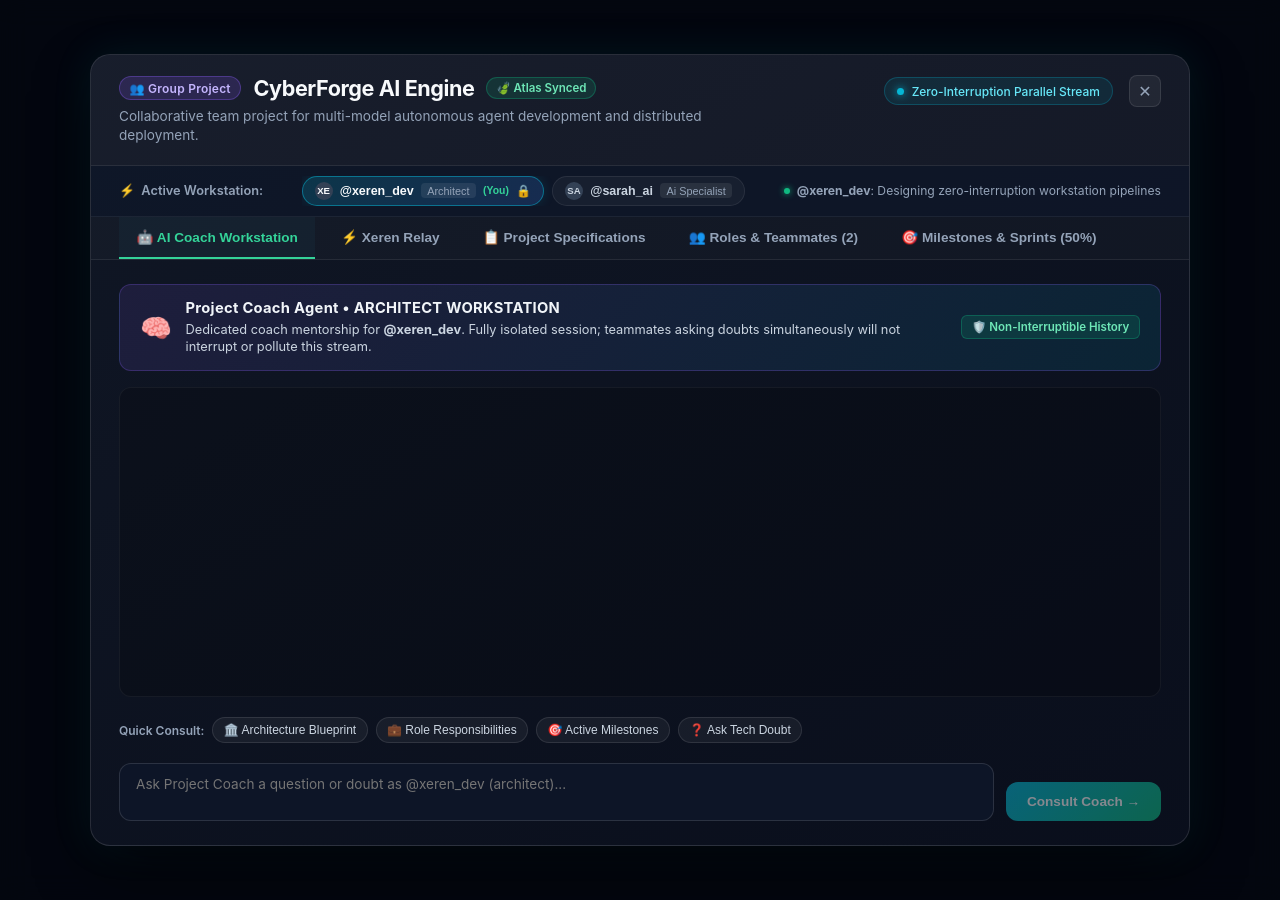
Test: Project Workspace, Dedicated AI Coach, and Workstation Isolation › switches to Specifications tab, displays specifications, and saves updates
The image size is (1280, 900).
# Click Specifications tab
Click the button "📋 Project Specifications": [564, 238] box left=465, top=217, right=663, bottom=259
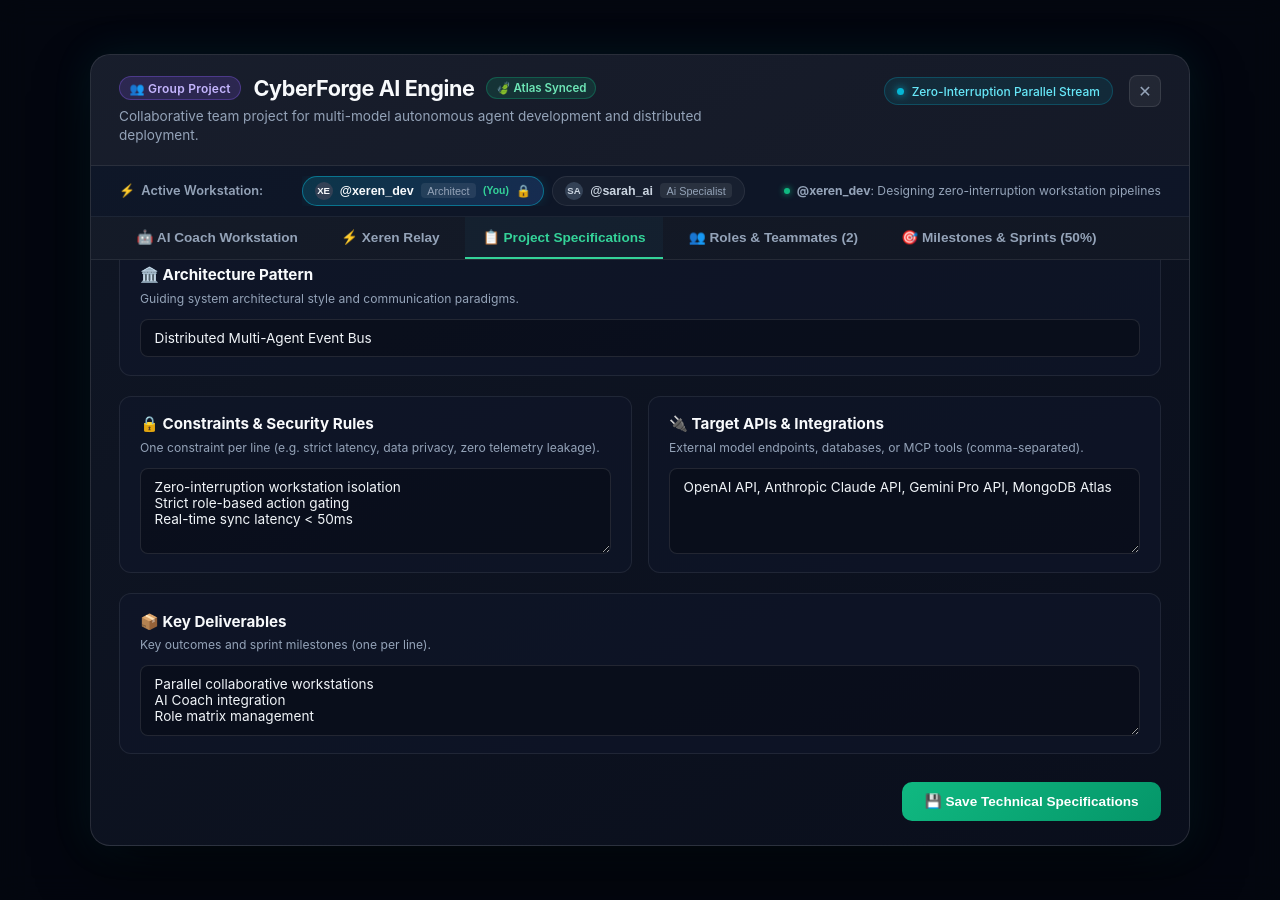
Result: the heading "🏛️ Architecture Pattern" is shown at left=140, top=265, right=313, bottom=284
Result: the heading "🔒 Constraints & Security Rules" is shown at left=140, top=414, right=374, bottom=434
Result: the button "💾 Save Technical Specifications" is shown
Click the button "💾 Save Technical Specifications": [1032, 801] box left=902, top=782, right=1161, bottom=821
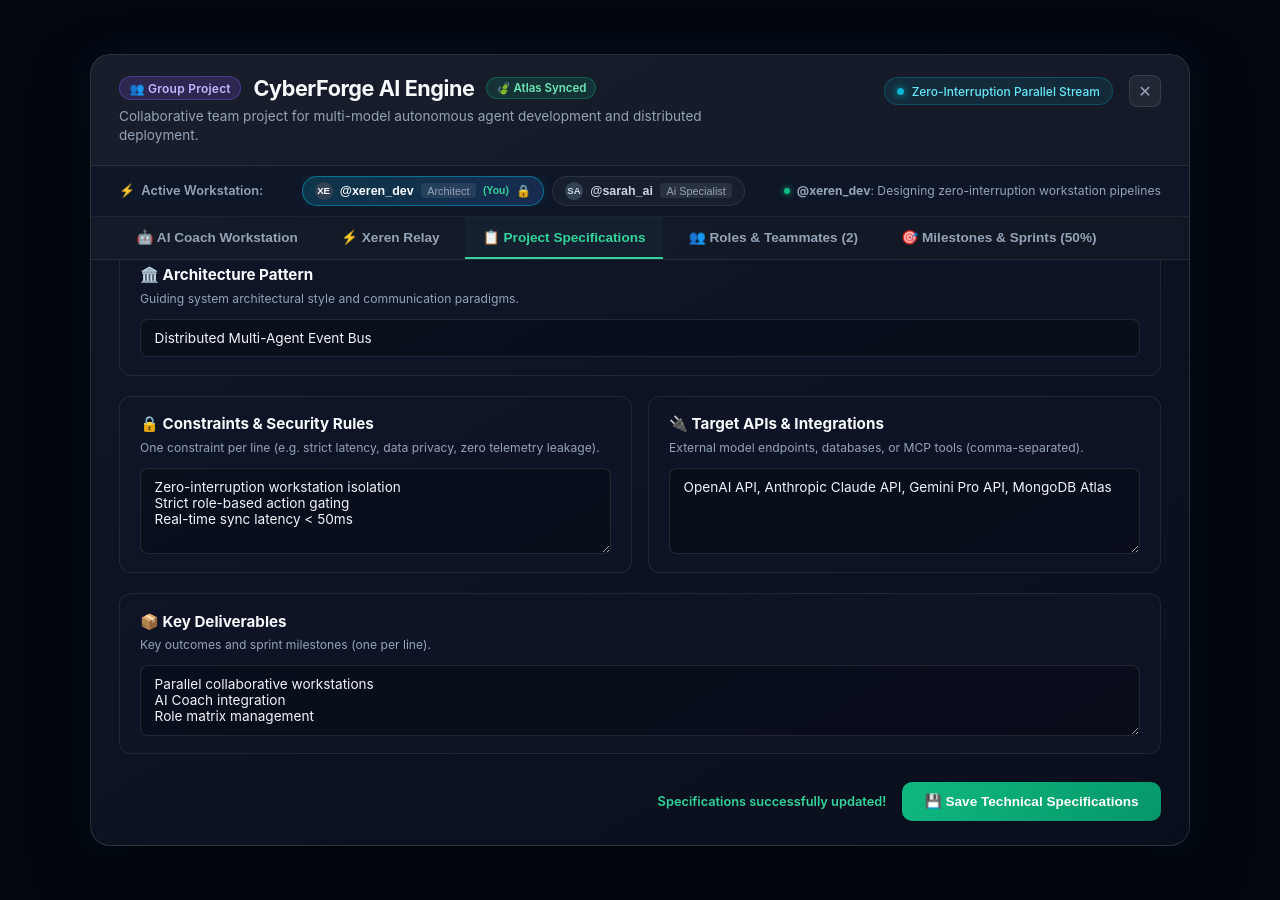
Result: the text "Specifications successfully updated!" is shown at left=658, top=794, right=886, bottom=809
